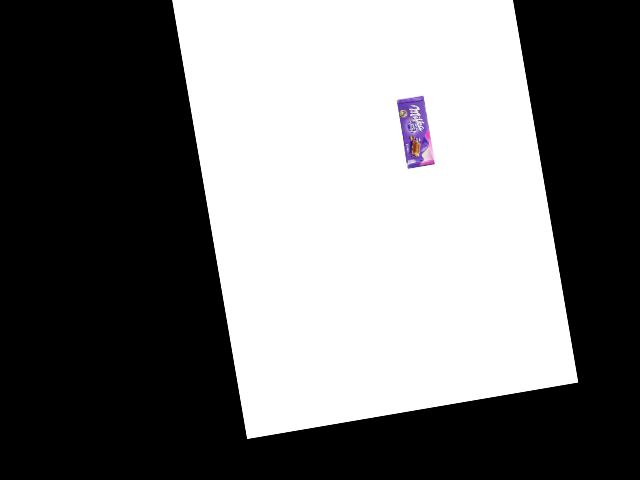chocolate: (395, 95, 435, 168)
